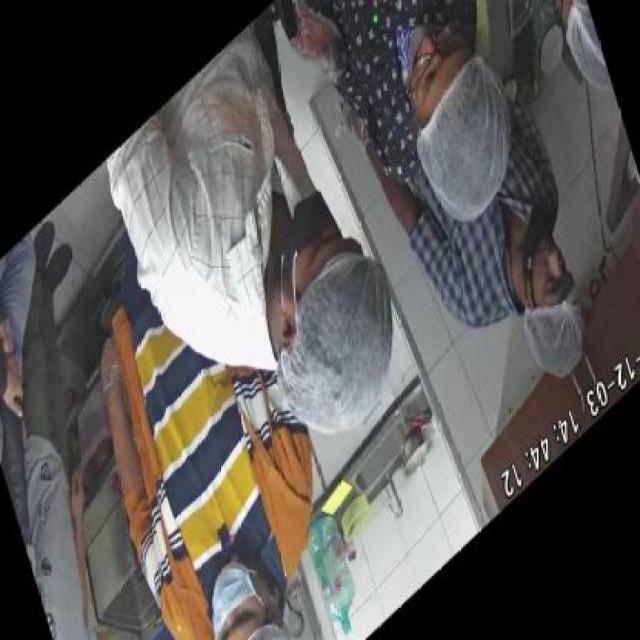hairnet: (275, 268, 391, 417), (421, 67, 508, 216), (524, 296, 583, 382), (237, 625, 293, 640)
